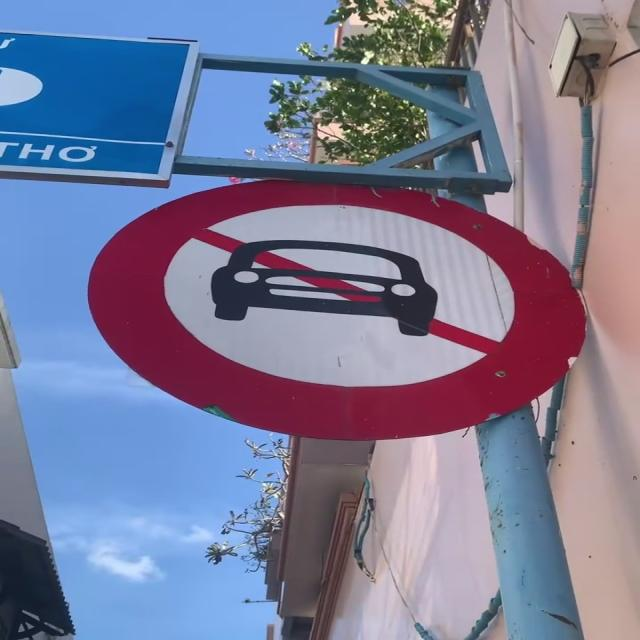Cam_O_To: (88, 175, 591, 450)
